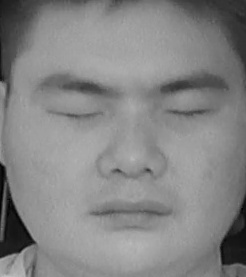blink: (50, 96, 105, 133), (164, 94, 212, 127)
mouth: (88, 184, 178, 240)
